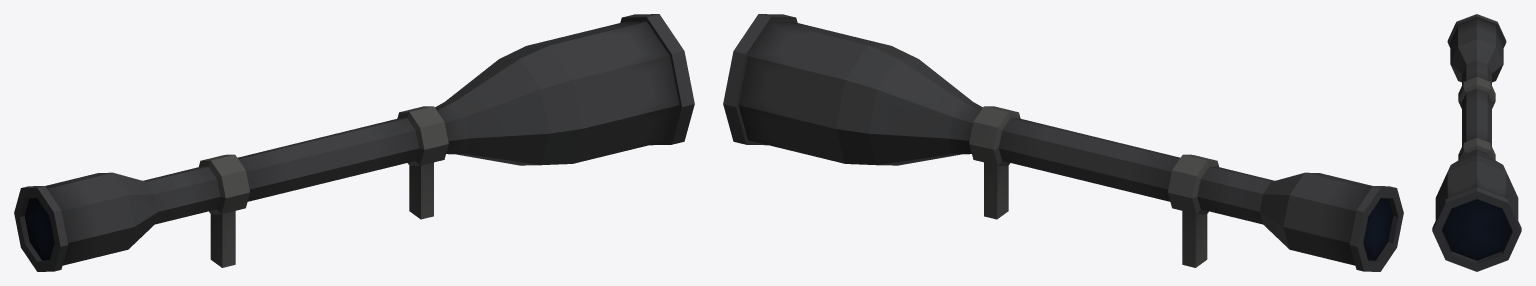
The model's file is q-acc-scope-3.glb.
The picture shows the model from 3 angles, left to right: view 1: azimuth 30°, elevation 25°; view 2: azimuth 150°, elevation 25°; view 3: azimuth 270°, elevation 25°; orthographic projection. The views are drawn at different scales.
Parts seen in each view (by area): view 1: scope; view 2: scope; view 3: scope.
Boxes of the visible parts, left/top/right/bottom form: scope: left=14, top=14, right=694, bottom=271; scope: left=723, top=14, right=1403, bottom=271; scope: left=1432, top=14, right=1521, bottom=271.
Bounding box in the file's own units: 0.2346 × 0.0511 × 0.0462.
